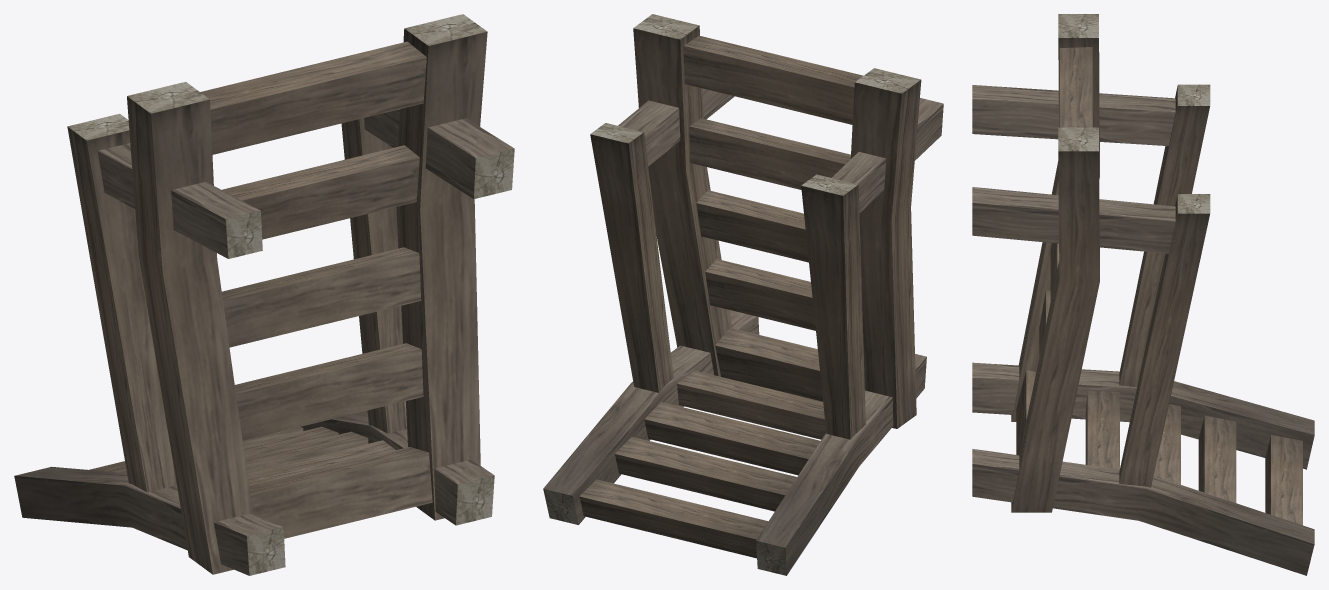
Rendered from LongChair_Type_01_A.fbx.
3 renders of one model, left to right at view 1: azimuth 30°, elevation 25°; view 2: azimuth 150°, elevation 25°; view 3: azimuth 270°, elevation 25°, orthographic. The views are drawn at different scales.
Visible parts, largest first — view 1: LongChair_Type_01_A; view 2: LongChair_Type_01_A; view 3: LongChair_Type_01_A.
Boxes of the visible parts, box(x1,y1,x2,y2) form: LongChair_Type_01_A: box(14, 14, 514, 575); LongChair_Type_01_A: box(543, 14, 943, 575); LongChair_Type_01_A: box(972, 14, 1314, 575).
Bounding box in the file's own units: 1.12 × 1.65 × 1.18.
